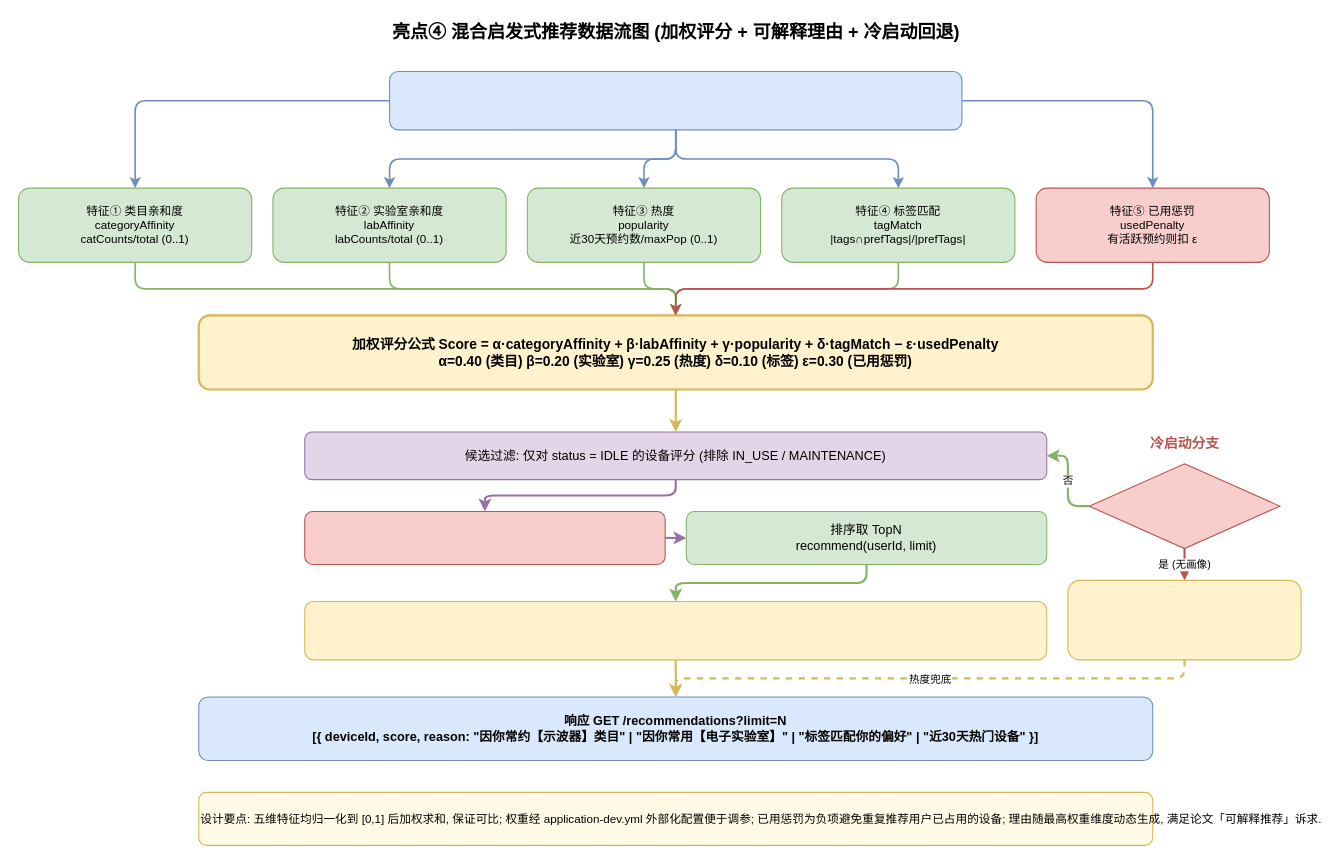
This 1341x864 diagram has some shape labels left out. The centre of each missing label's shape, as x and y in pixels:
Redis 缓存 rec:u:{userId} (TTL 5min, MAX_CACHE_SIZE=50) compute() 重算后写回: pixel 484 537
亲和度/标签特征全为 0 Score 退化为 γ·popularity → reason = "近30天热门设备": pixel 1184 619
判定: total = 0 (用户无历史预约): pixel 1184 506
可解释理由生成 pickReason() 取贡献最大的维度 → 模板拼装 (ε=0.01 平票阈值; 优先级 类目>实验室>标签>热度): pixel 675 630
用户行为数据源: reservation (预约历史表) recommend() → 取该用户全部历史预约作为行为画像 (operation_log 不参与): pixel 675 100
